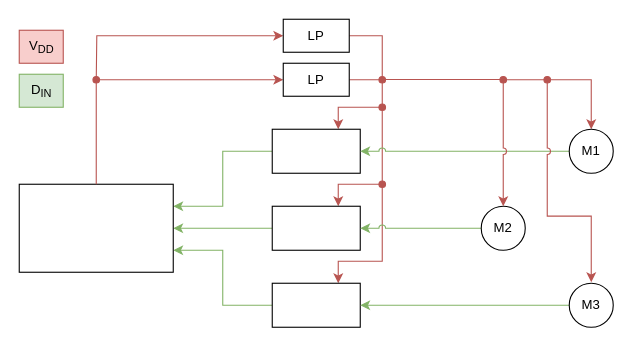
The diagram is 633 pixels wide and 347 high, and some of its shapes have lost their labels. Each missing label, with the centre of its shape:
ADC1: (315,150)
ADC2: (315,227)
ADC3: (315,304)
Raspberry Pi: (95,227)
